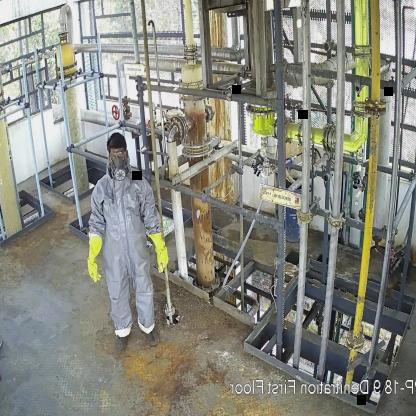goggles: (110, 149, 126, 159)
mask: (110, 158, 128, 184)
